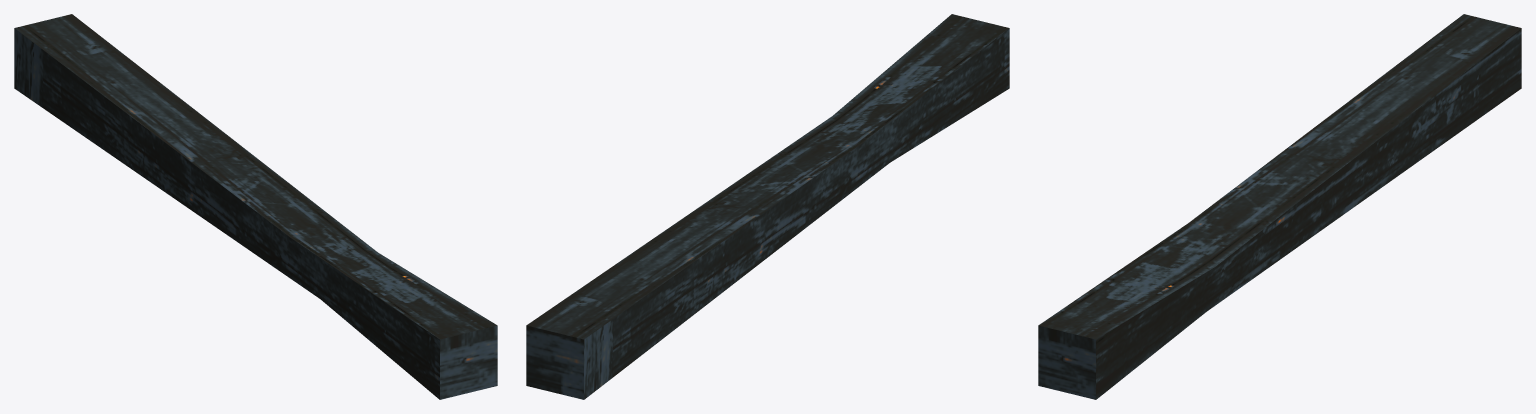
Rendered from plank_1.fbx.
The picture shows the model from 3 angles, left to right: view 1: azimuth 30°, elevation 25°; view 2: azimuth 150°, elevation 25°; view 3: azimuth 330°, elevation 25°; orthographic projection.
Parts seen in each view (by area): view 1: plank_1; view 2: plank_1; view 3: plank_1.
Part boxes in pixels (x1,y1,x2,y2): plank_1: (14,14,497,399); plank_1: (526,14,1009,399); plank_1: (1038,14,1521,399).
Size of the model in its own units: 0.00166 by 0.00166 by 0.0211.
